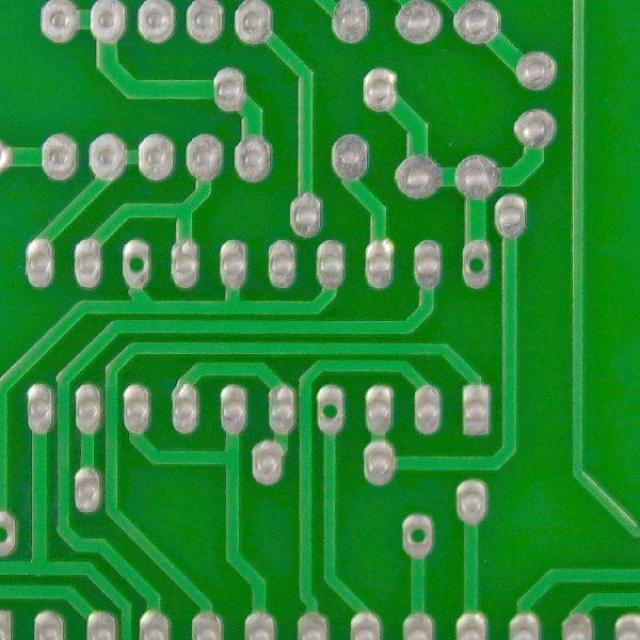Missing_Hole: (118, 235, 156, 289), (458, 237, 495, 290), (397, 512, 437, 560), (312, 382, 346, 436), (0, 506, 19, 559)
